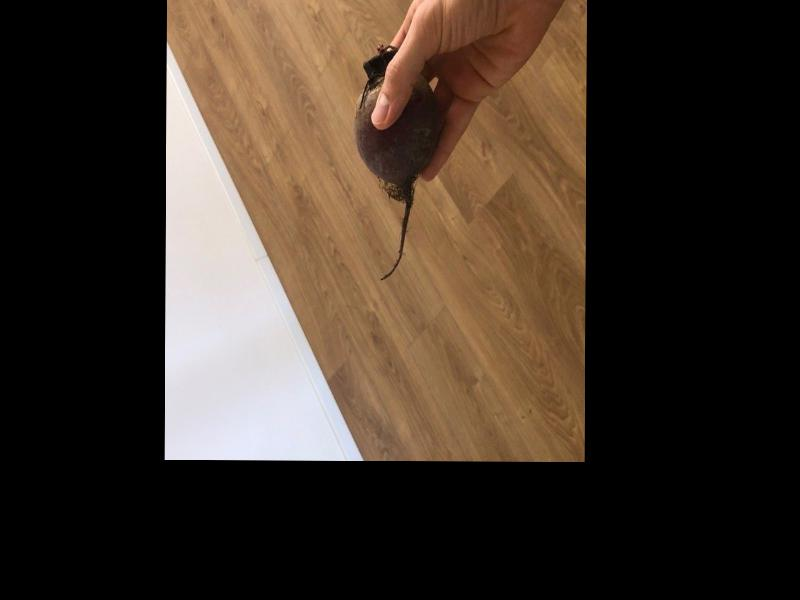Beet: (354, 45, 440, 281)
